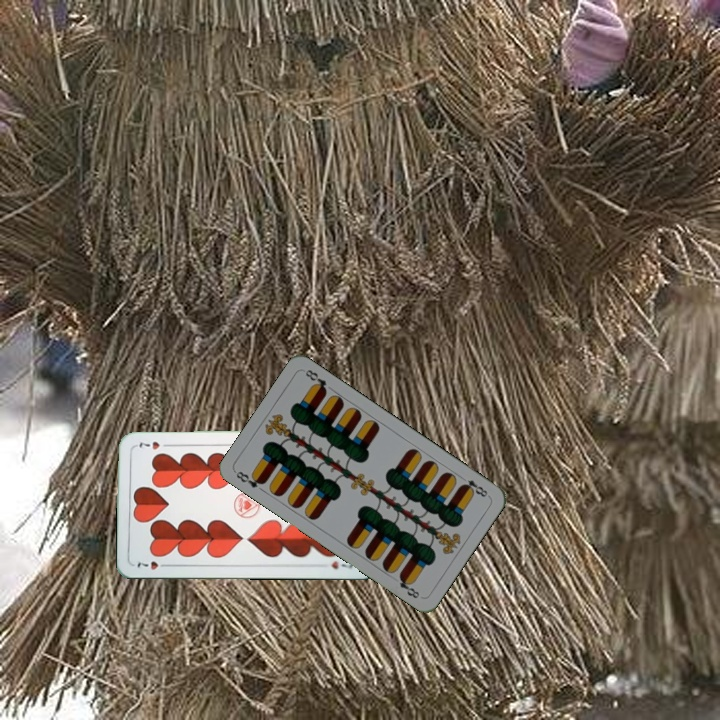E8: (457, 475, 492, 500), (232, 467, 268, 491)
H7: (133, 557, 172, 573)
